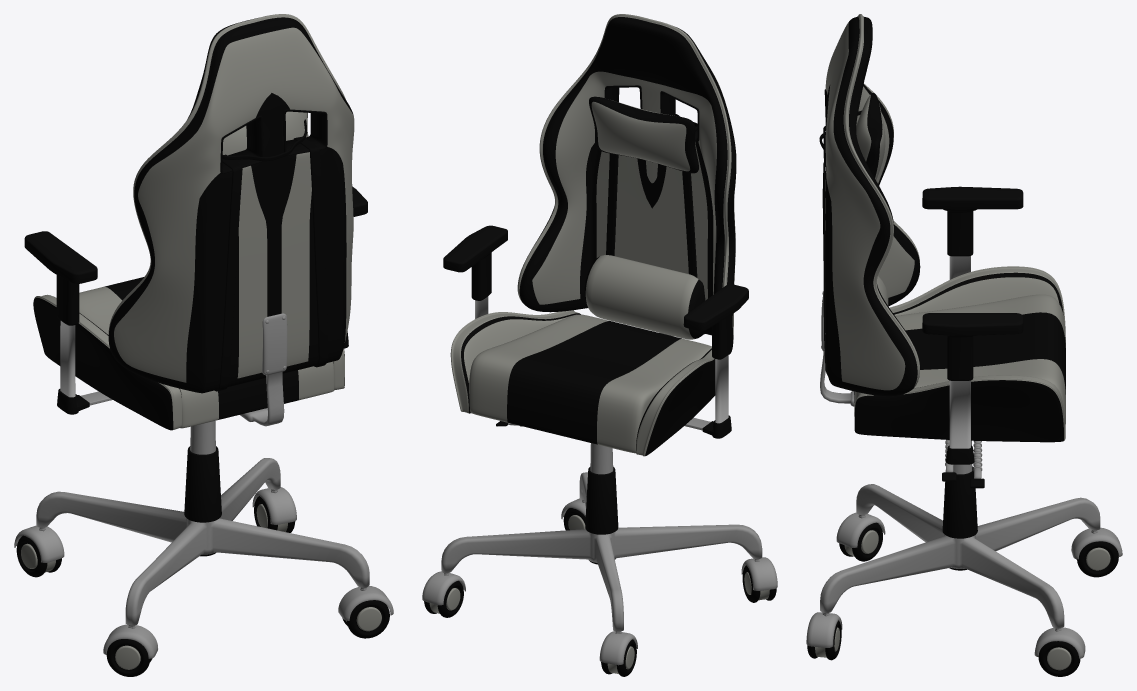
Rendered from chairModel.glb.
3 renders of one model, left to right at view 1: azimuth 30°, elevation 25°; view 2: azimuth 150°, elevation 25°; view 3: azimuth 270°, elevation 25°, orthographic. The views are drawn at different scales.
Visible parts, largest first — view 1: SillaGamer; view 2: SillaGamer; view 3: SillaGamer.
Boxes of the visible parts, x1,y1,x2,y2 form: SillaGamer: (14, 14, 393, 676); SillaGamer: (422, 14, 777, 676); SillaGamer: (806, 14, 1122, 676).
Size of the model in its own units: 2.3 by 4.51 by 2.19.
Materials: 6 (5 with a texture image).
